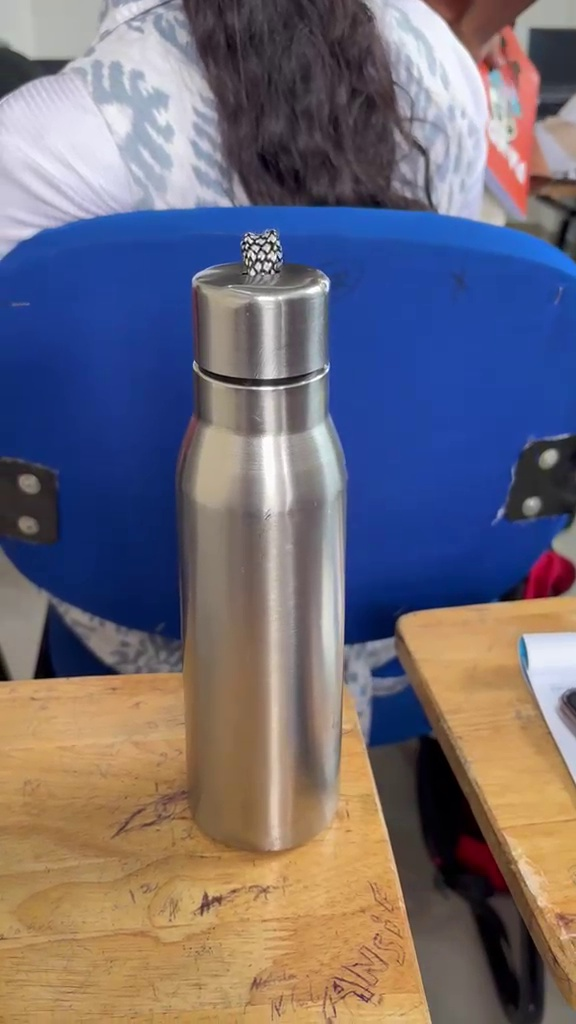Bottle: (176, 224, 355, 891)
